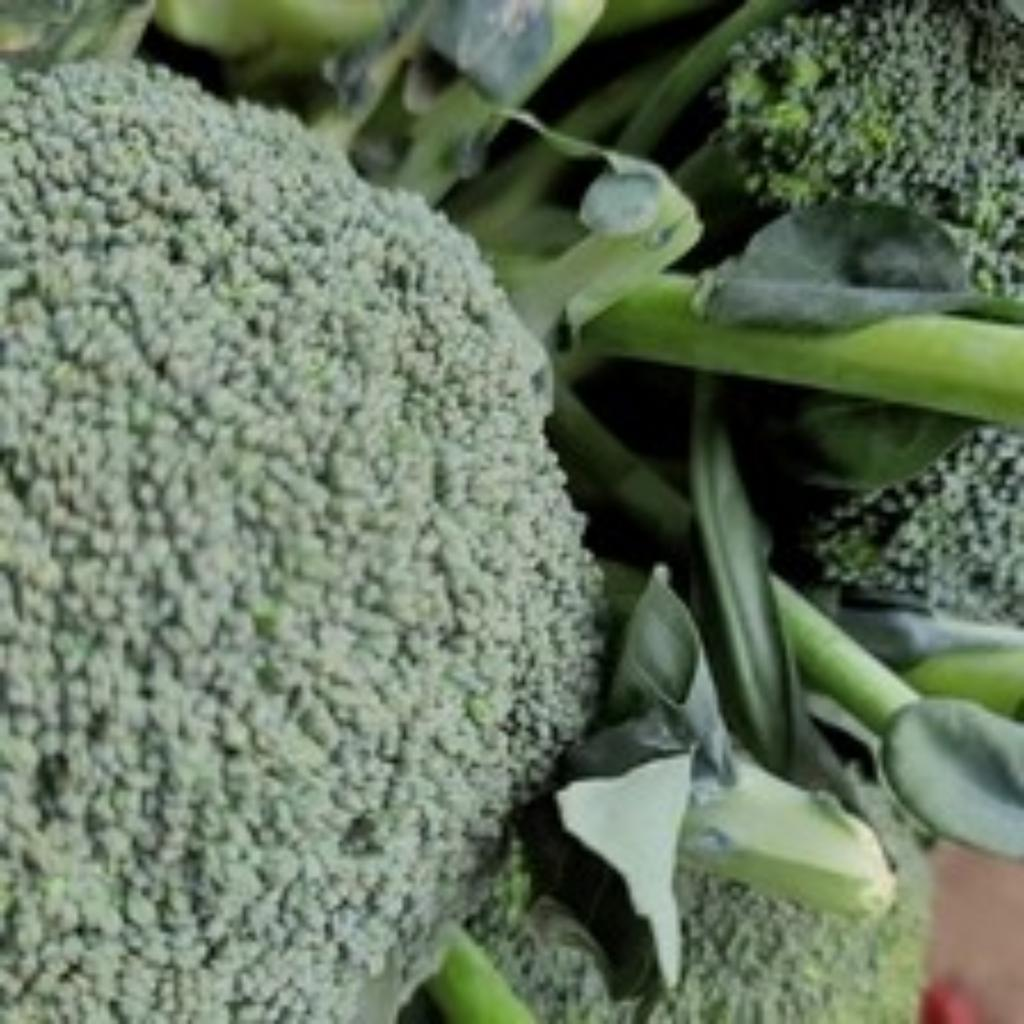Broccoli: (2, 64, 592, 1023), (2, 66, 592, 1023)
